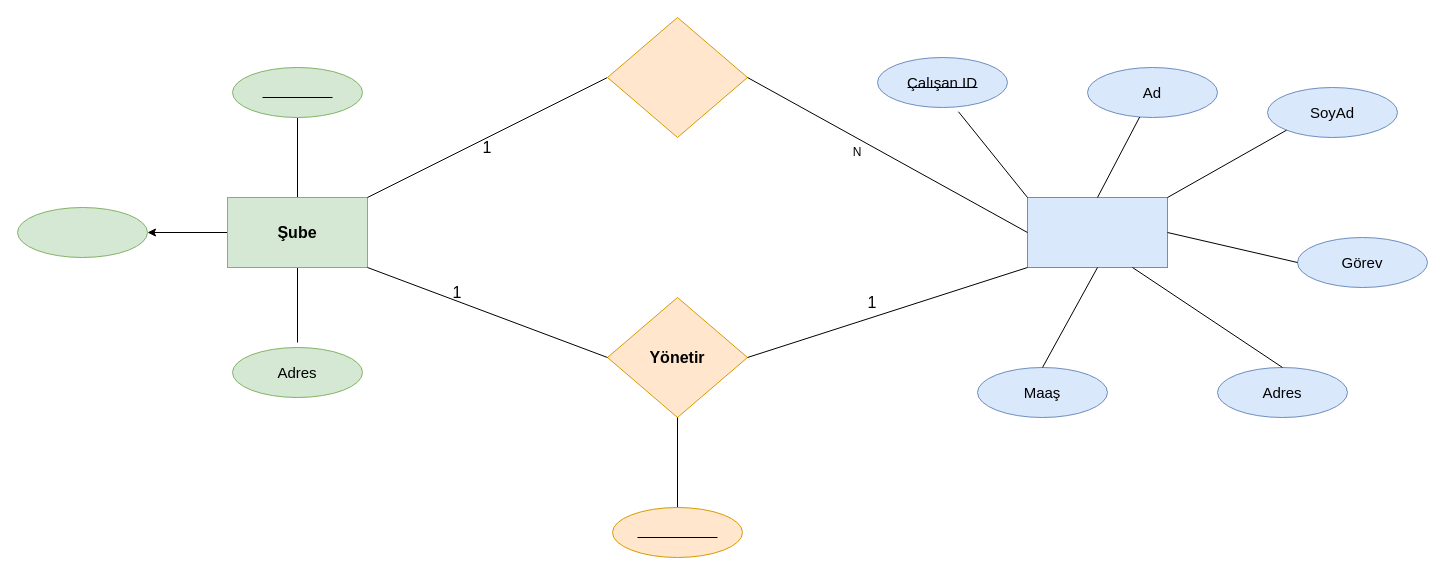
This 1445x575 diagram has some shape labels left out. Each missing label, with the centre of its shape:
Yönetici ID: (x=677, y=532)
Çalışan: (x=1097, y=232)
Çalışır: (x=677, y=77)
Şube Ad: (x=82, y=232)
Şube ID: (x=297, y=92)
